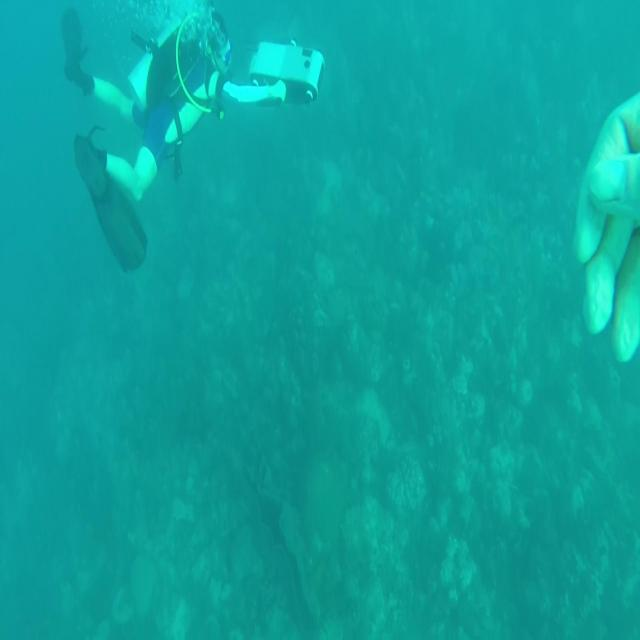human: (60, 3, 232, 273)
